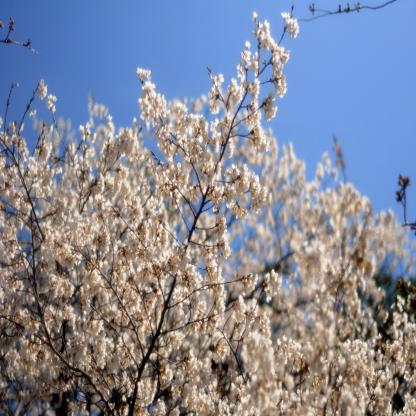Someiyoshino: (1, 1, 415, 415)
